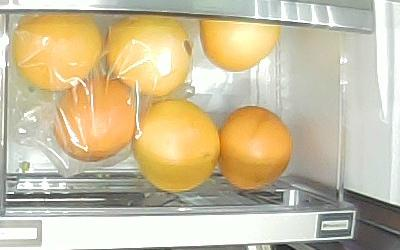grapefruit: (133, 98, 219, 192), (219, 105, 294, 191), (200, 17, 280, 72)
grapefruit_vinyl: (103, 13, 193, 96), (12, 12, 103, 91), (55, 76, 136, 162)
